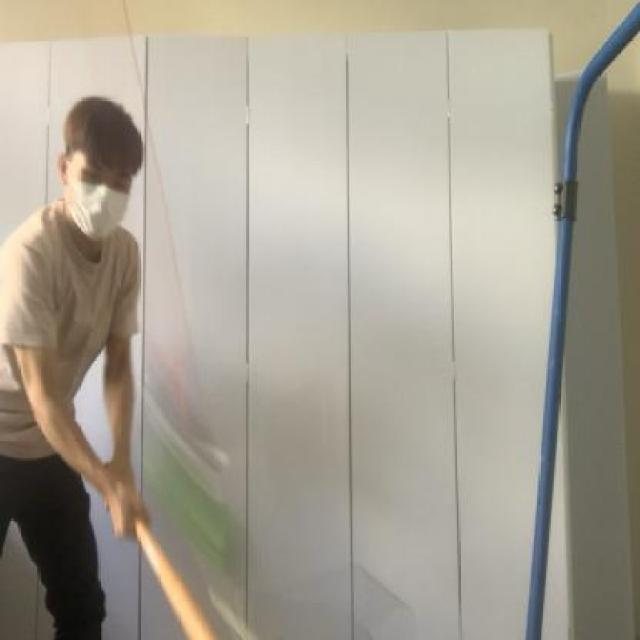baseball: (144, 440, 244, 588)
